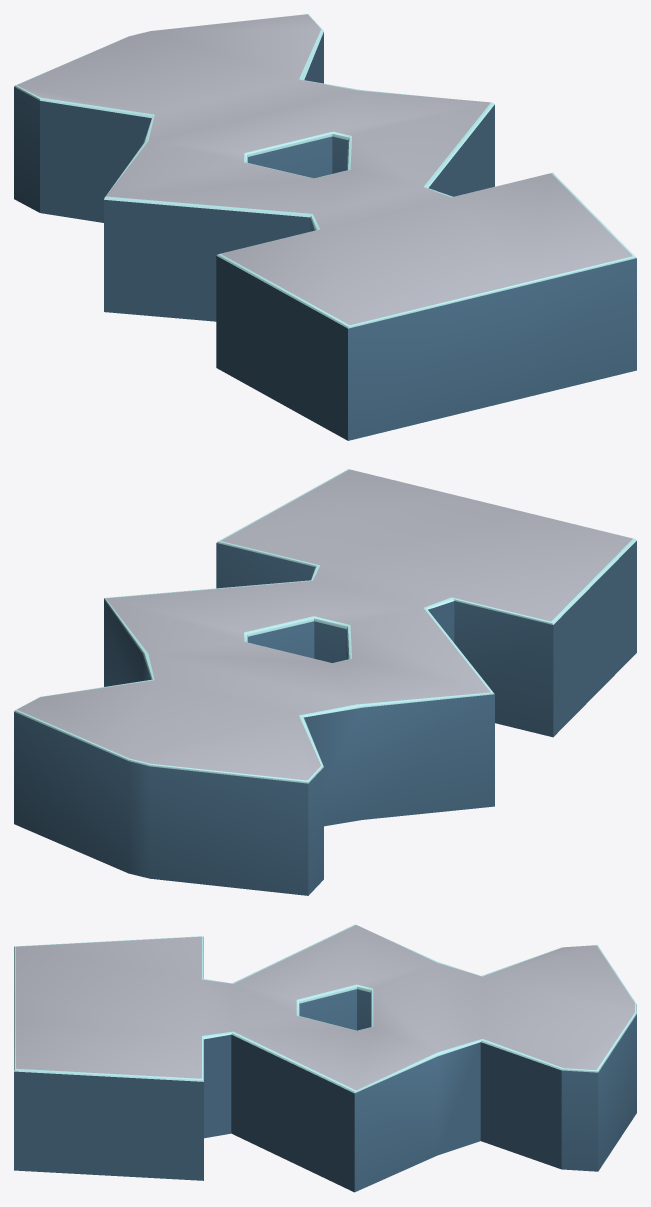
File: Lvl6.fbx
The picture shows the model from 3 angles, top to bottom: view 1: azimuth 30°, elevation 25°; view 2: azimuth 150°, elevation 25°; view 3: azimuth 270°, elevation 25°; orthographic projection. The views are drawn at different scales.
Parts seen in each view (by area): view 1: lvl6; view 2: lvl6; view 3: lvl6.
Boxes of the visible parts, box(x1,y1,x2,y2) form: lvl6: box(14, 14, 636, 440); lvl6: box(14, 469, 636, 895); lvl6: box(14, 924, 636, 1192).
Size of the model in its own units: 5092 by 1421 by 7971.
